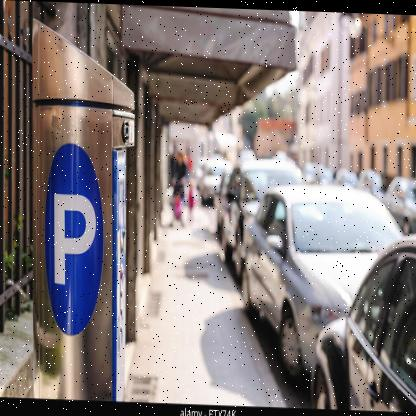Parking: (46, 137, 106, 347)
